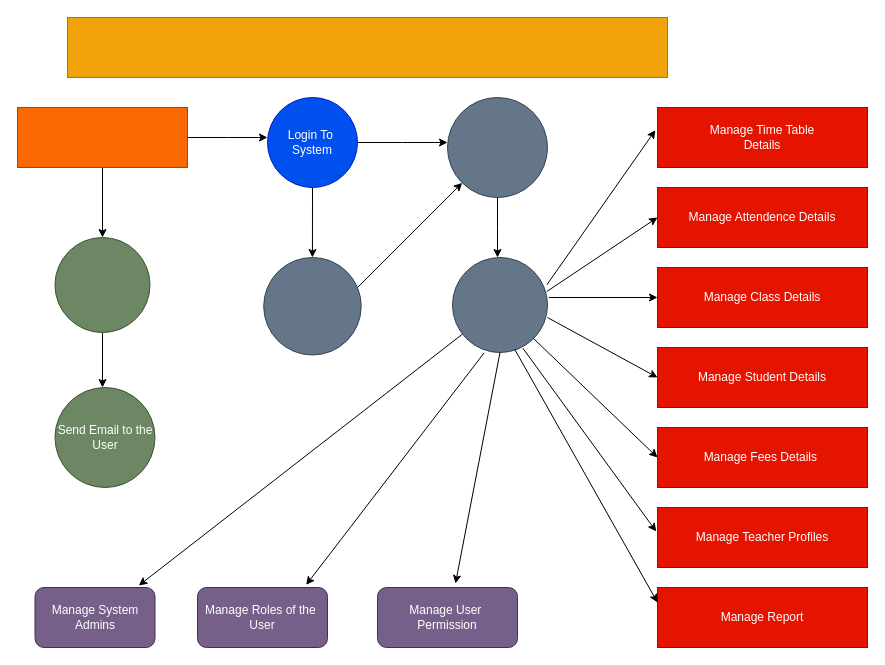
Some shapes in this 885 by 665 pixel diagram are drawn without their labels. Here are the shapes that lost their labels. From the top down, the centre of each, then its label:
the point at 367,47: Student Information System
the point at 102,137: Admin
the point at 497,147: Check Roles Of Access
the point at 102,284: Forget Password
the point at 500,304: Manage Modules
the point at 312,305: Check Credentials
